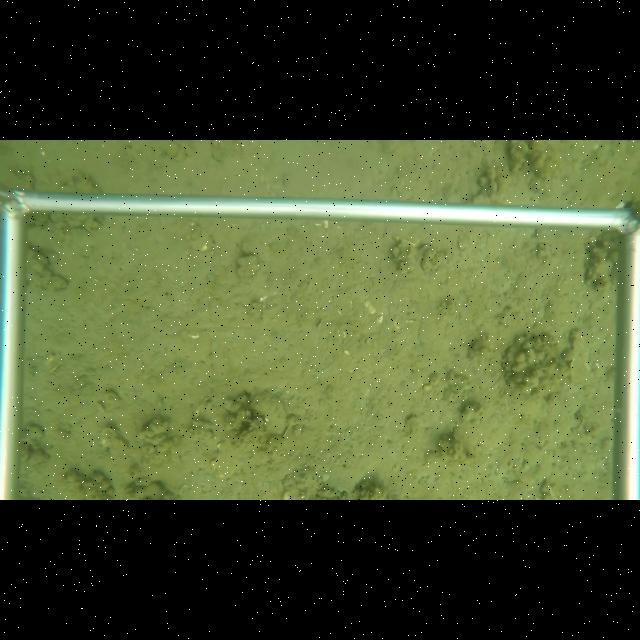Oyster-Closed: (246, 391, 287, 435)
